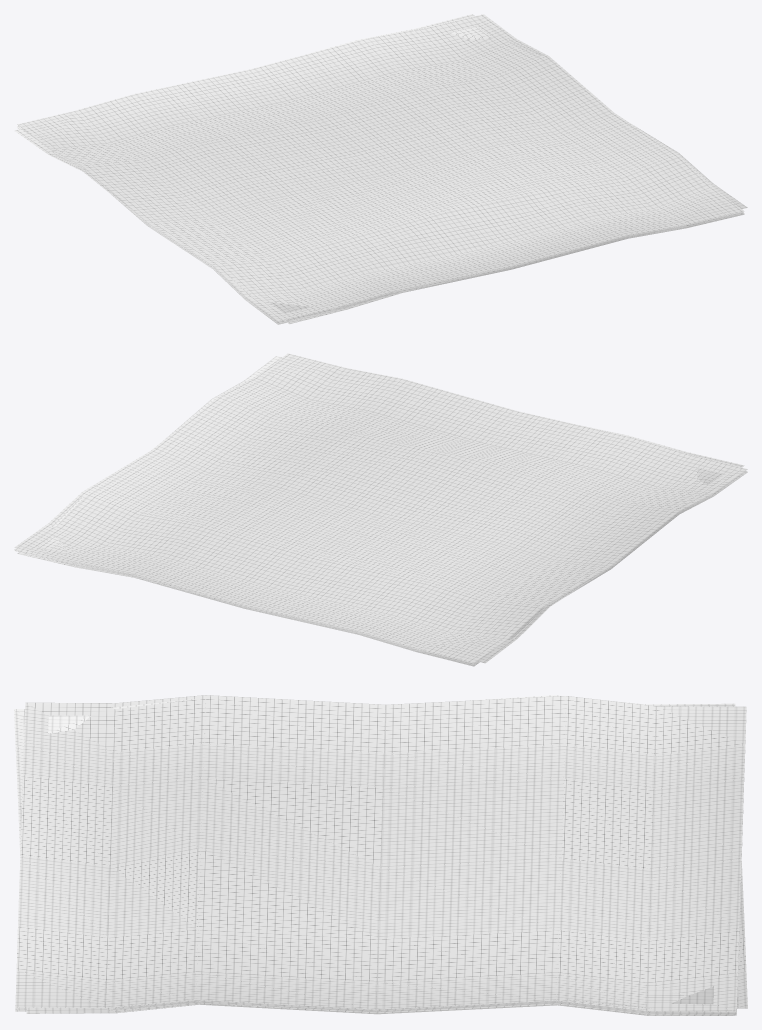
The model's file is Lint Free Cloth 30cm.fbx.
The picture shows the model from 3 angles, top to bottom: view 1: azimuth 30°, elevation 25°; view 2: azimuth 150°, elevation 25°; view 3: azimuth 270°, elevation 25°; orthographic projection. The views are drawn at different scales.
Visible parts, largest first — view 1: lint_free_cloth; view 2: lint_free_cloth; view 3: lint_free_cloth.
Part boxes in pixels (box(x1,y1,x2,y2)): lint_free_cloth: box(14, 14, 747, 324); lint_free_cloth: box(14, 353, 747, 666); lint_free_cloth: box(14, 695, 747, 1015).
Size of the model in its own units: 30 by 2.38 by 30.
